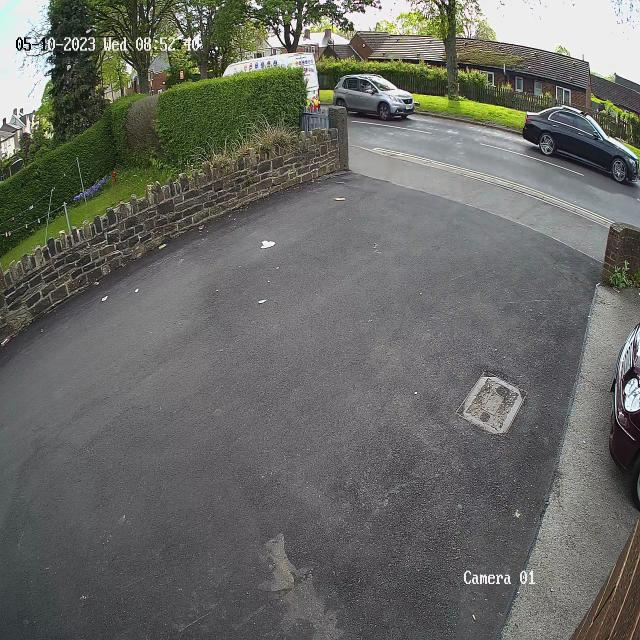vehicle: (514, 89, 640, 194), (331, 67, 416, 128)
